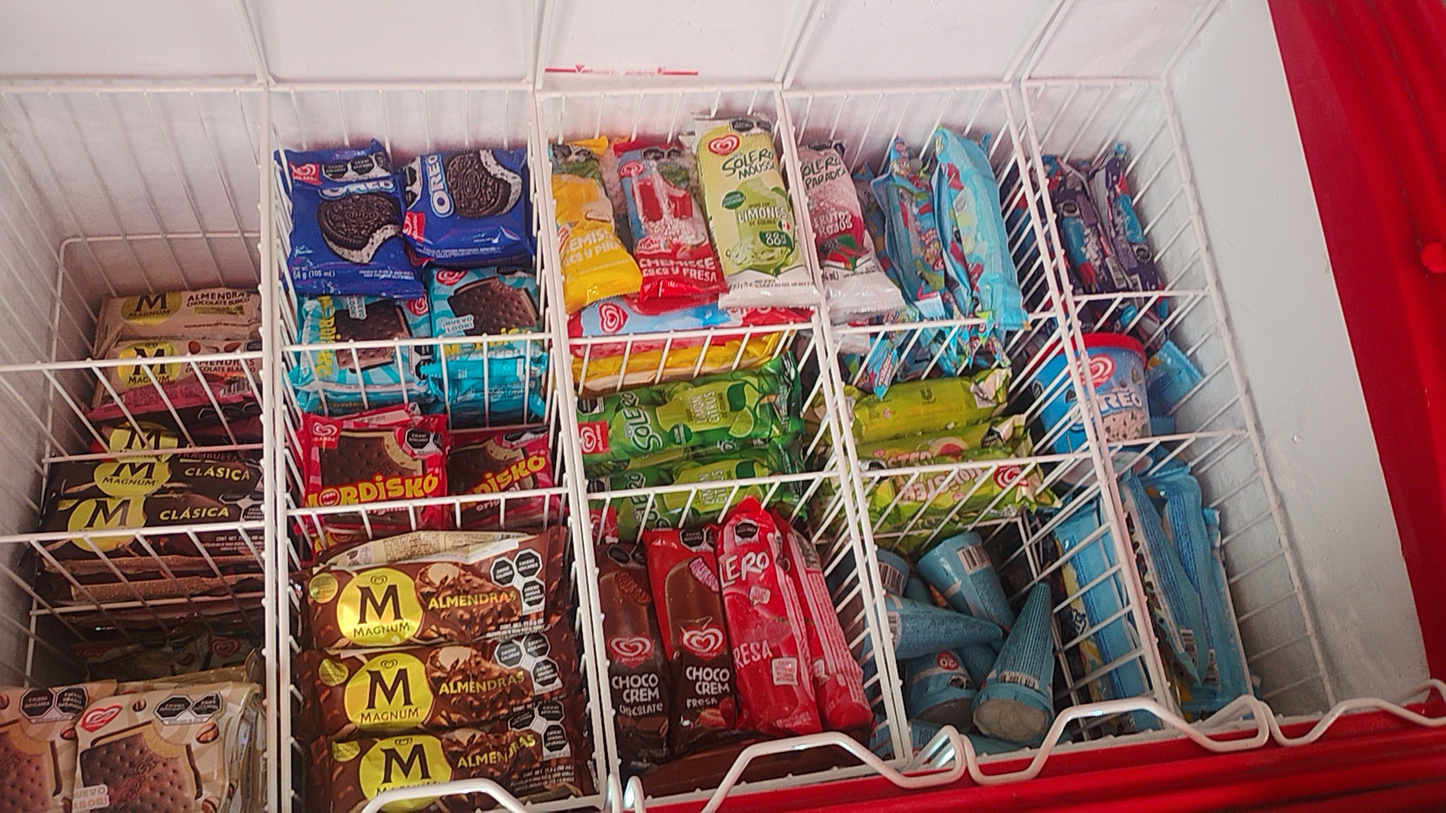Magnum clasica: (54, 454, 266, 497), (34, 495, 270, 526)
Oreo Mordizco: (268, 156, 419, 295), (399, 146, 537, 250)
